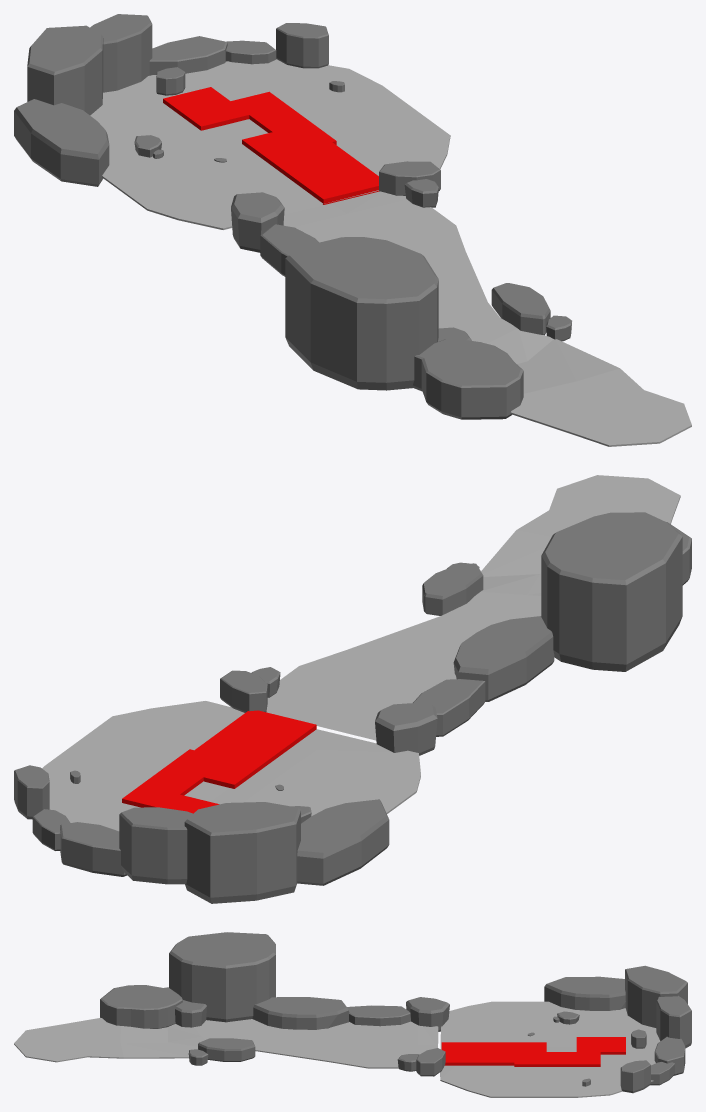
The model's file is envvironmentLevel.fbx.
3 renders of one model, top to bottom at view 1: azimuth 30°, elevation 25°; view 2: azimuth 150°, elevation 25°; view 3: azimuth 270°, elevation 25°, orthographic. The views are drawn at different scales.
Parts seen in each view (by area): view 1: env_graphics; view 2: env_graphics; view 3: env_graphics.
Part boxes in pixels (box(x1,y1,x2,y2)): env_graphics: box(14, 14, 691, 446); env_graphics: box(14, 475, 691, 903); env_graphics: box(14, 932, 691, 1097).
Size of what is drawn, in the model's own units: 56.57 by 16.13 by 150.
